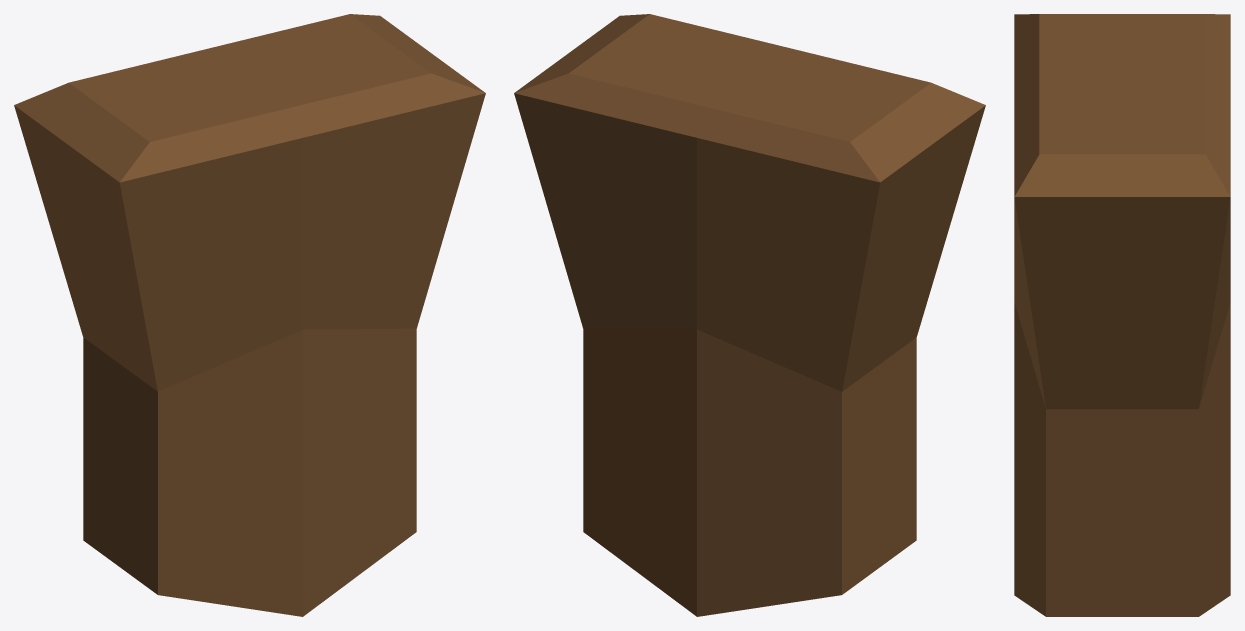
File: bronze_torso.glb
3 views of the same model, side by side, from view 1: azimuth 30°, elevation 25°; view 2: azimuth 150°, elevation 25°; view 3: azimuth 270°, elevation 25° (orthographic). The views are drawn at different scales.
Visible parts, largest first — view 1: Cube; view 2: Cube; view 3: Cube.
Boxes of the visible parts, x1,y1,x2,y2 form: Cube: [14, 14, 485, 616]; Cube: [514, 14, 985, 616]; Cube: [1014, 14, 1230, 616].
Size of the model in its own units: 4 by 5.22 by 2.
